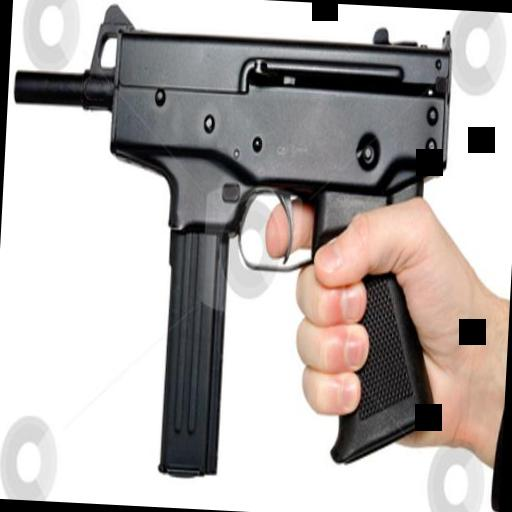Handgun: (76, 6, 452, 456)
